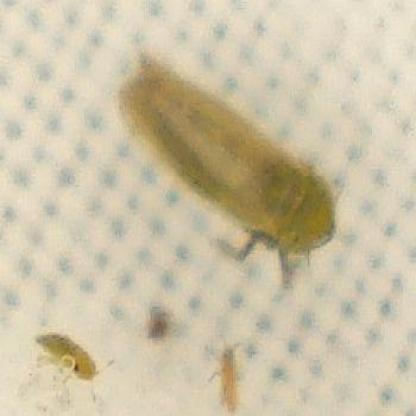green-leafhopper: (116, 53, 339, 292), (37, 326, 108, 399), (210, 346, 250, 411)
